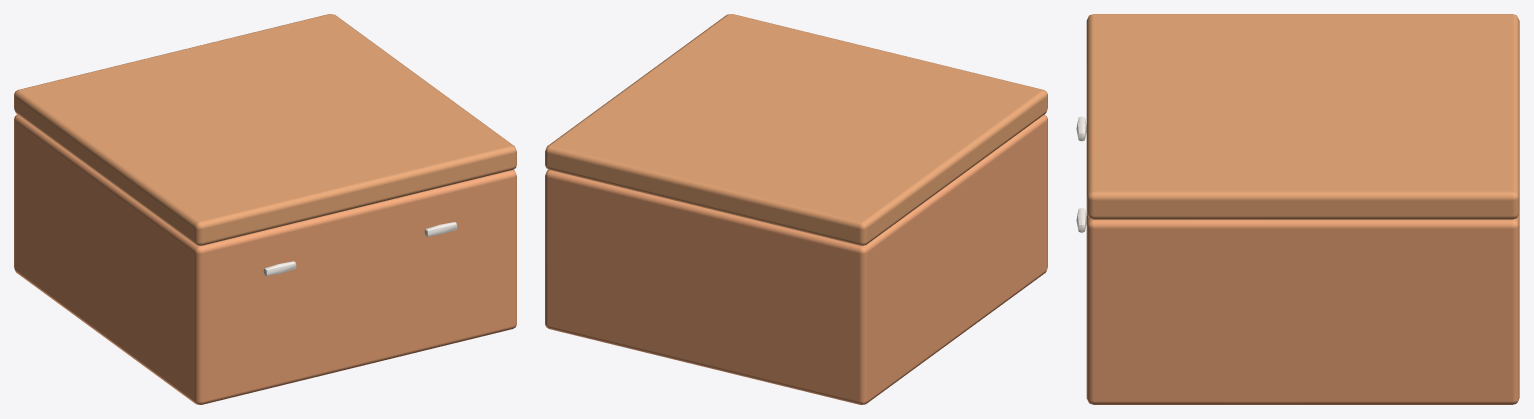
File: counter-compact.glb
The picture shows the model from 3 angles, left to right: view 1: azimuth 30°, elevation 25°; view 2: azimuth 150°, elevation 25°; view 3: azimuth 270°, elevation 25°; orthographic projection. The views are drawn at different scales.
Visible parts, largest first — view 1: part (×2); view 2: part (×2); view 3: part (×2).
Part boxes in pixels (<box>): part (×2): <box>14,14,516,404</box>; part (×2): <box>545,14,1047,404</box>; part (×2): <box>1086,14,1519,404</box>.
Bounding box in the file's own units: 1.8 × 0.98 × 1.84.
1 material, 1 textured.
